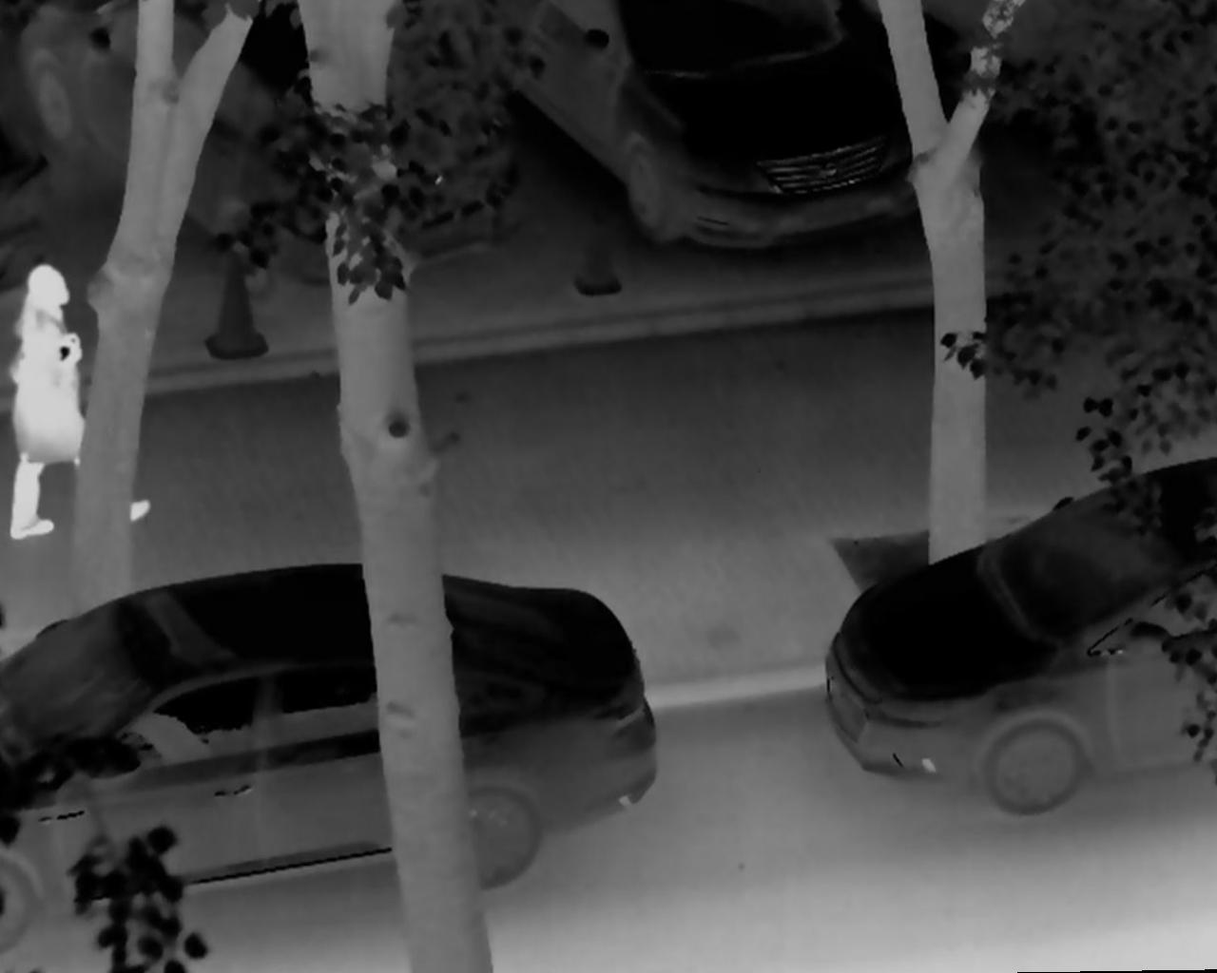person: (9, 258, 152, 540)
